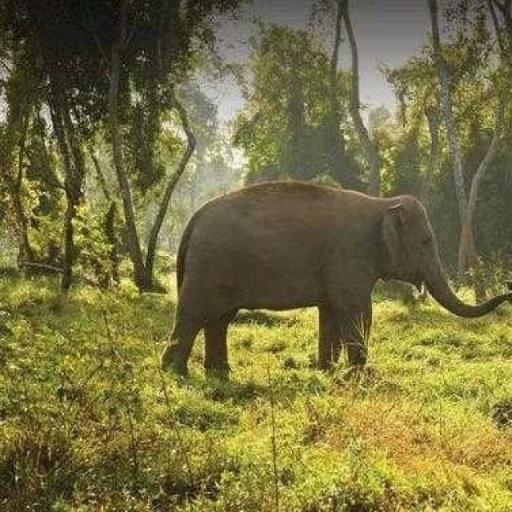Elephant: (160, 178, 511, 378)
